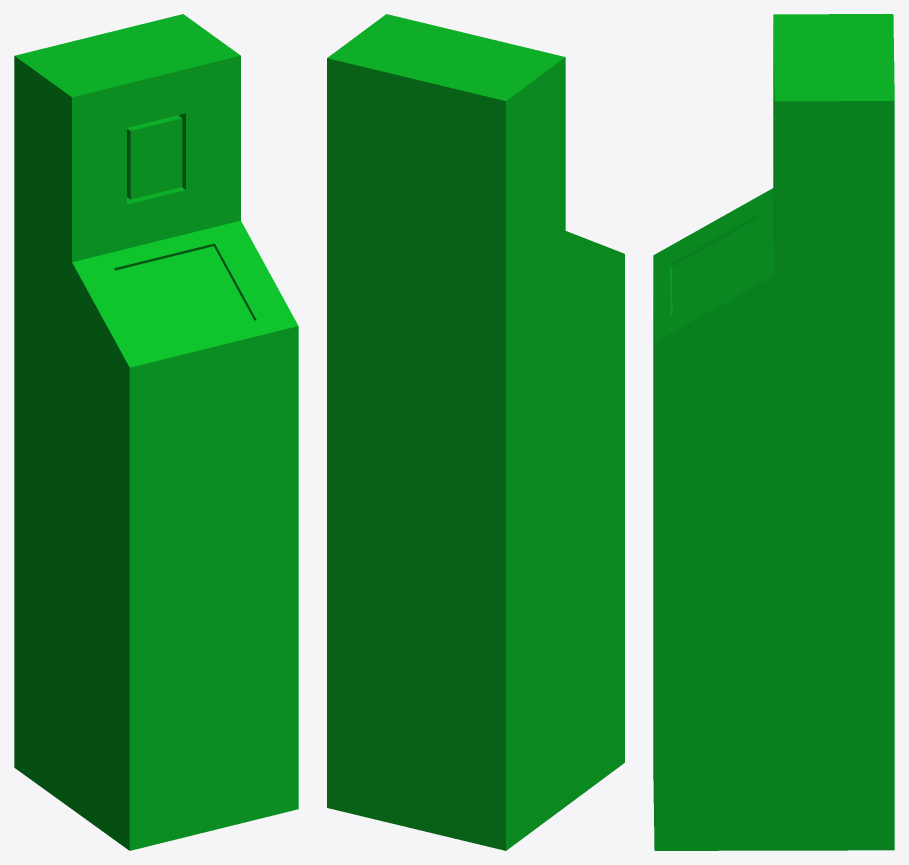
The model's file is DoorActivation.FBX.
3 views of the same model, side by side, from view 1: azimuth 30°, elevation 25°; view 2: azimuth 150°, elevation 25°; view 3: azimuth 270°, elevation 25° (orthographic). The views are drawn at different scales.
Parts seen in each view (by area): view 1: DoorActivation; view 2: DoorActivation; view 3: DoorActivation.
Boxes of the visible parts, box(x1,y1,x2,y2) form: DoorActivation: box(14, 14, 298, 850); DoorActivation: box(327, 14, 624, 850); DoorActivation: box(653, 14, 894, 850).
Bounding box in the file's own units: 19.43 × 77.47 × 22.63.
